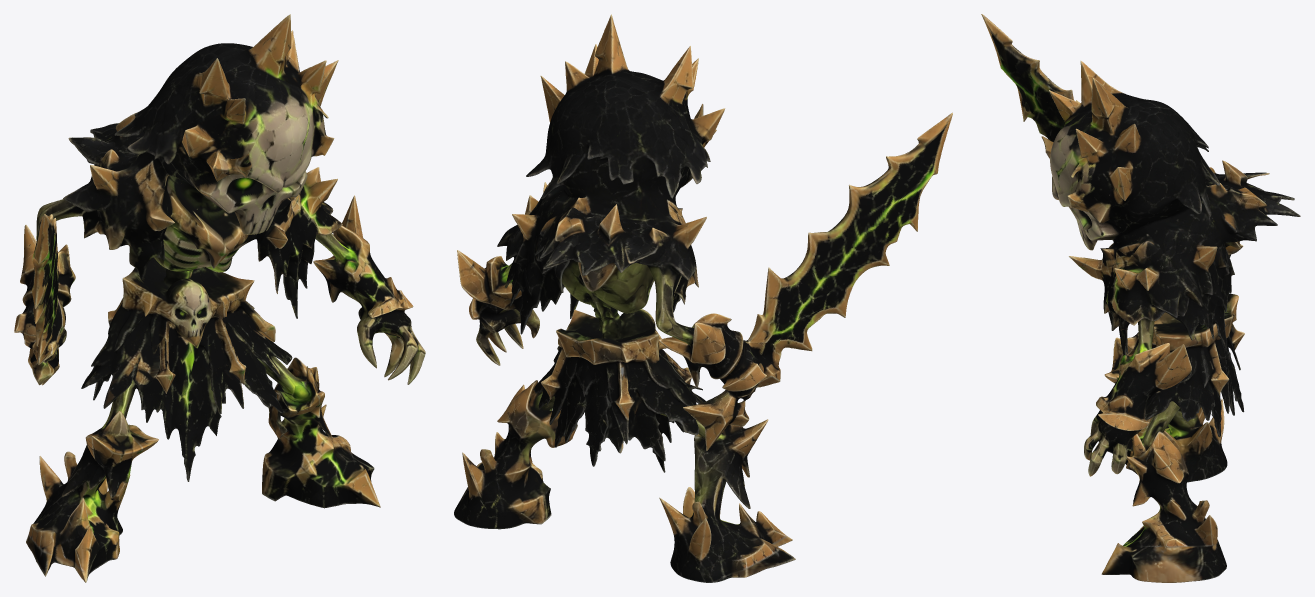
File: EmeraldBoneReaver.glb
The picture shows the model from 3 angles, left to right: view 1: azimuth 30°, elevation 25°; view 2: azimuth 150°, elevation 25°; view 3: azimuth 270°, elevation 25°; orthographic projection. The views are drawn at different scales.
Bounding box in the file's own units: 1.69 × 1.9 × 1.19.
Materials: 1 (1 with a texture image).
